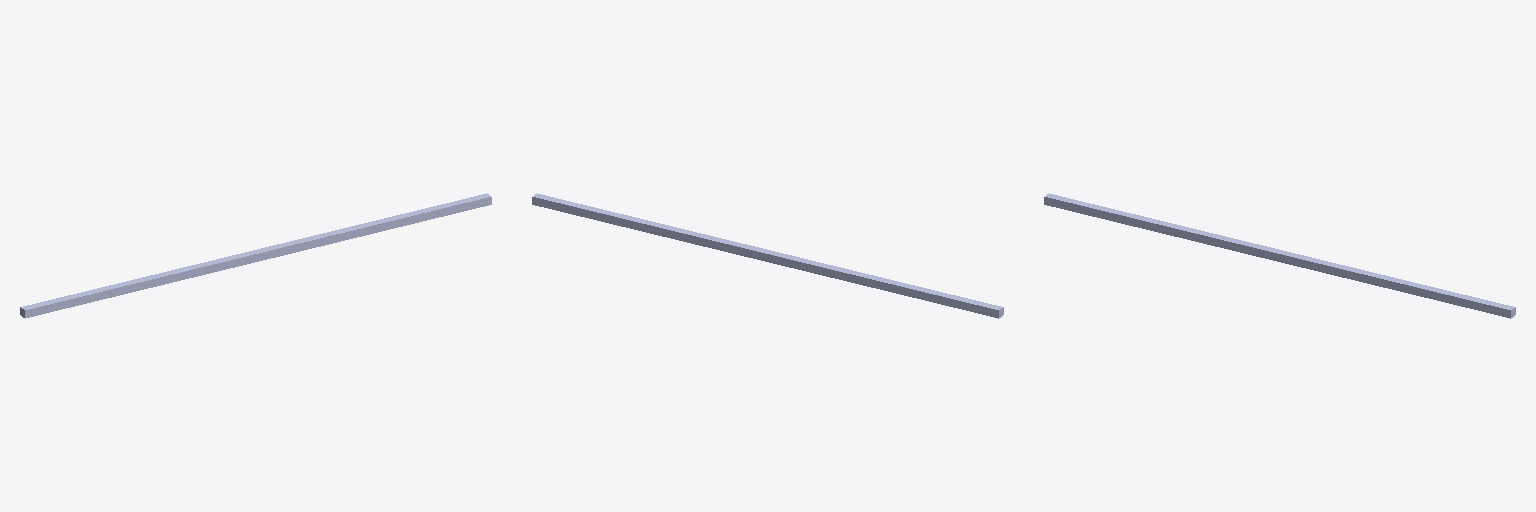
The robot description file, URDF, robot "road1":
<?xml version="1.0" encoding="utf-8"?>
<!-- This URDF was automatically created by SolidWorks to URDF Exporter! Originally created by Stephen Brawner ([email redacted]) 
     Commit Version: 1.6.0-4-g7f85cfe  Build Version: 1.6.7995.38578
     For more information, please see http://wiki.ros.org/sw_urdf_exporter -->
<robot
  name="road1">
  <link
    name="base_link">
    <inertial>
      <origin
        xyz="-2.55487724437157E-16 0.01 -0.21"
        rpy="0 0 0" />
      <mass
        value="0.48" />
      <inertia
        ixx="3.2E-05"
        ixy="6.77626357803441E-20"
        ixz="-1.41810030153862E-18"
        iyy="0.057616"
        iyz="-1.2886420446348E-21"
        izz="0.057616" />
    </inertial>
    <visual>
      <origin
        xyz="0 0 0"
        rpy="0 0 0" />
      <geometry>
        <mesh
          filename="package://road1/meshes/base_link.STL" />
      </geometry>
      <material
        name="">
        <color
          rgba="0.792156862745098 0.819607843137255 0.933333333333333 1" />
      </material>
    </visual>
    <collision>
      <origin
        xyz="0 0 0"
        rpy="0 0 0" />
      <geometry>
        <mesh
          filename="package://road1/meshes/base_link.STL" />
      </geometry>
    </collision>
  </link>
</robot>

--- Facts derived from the render (not from the file) ---
The picture shows the robot from 3 angles, left to right: view 1: azimuth 30°, elevation 25°; view 2: azimuth 150°, elevation 25°; view 3: azimuth 330°, elevation 25°; orthographic projection.
Model road1 with 1 links and 0 joints (none), rooted at base_link, posed every joint at zero.
Visible links, largest first — view 1: base_link; view 2: base_link; view 3: base_link.
Boxes of the visible links, bbox=[...] form: base_link: bbox=[20, 193, 491, 318]; base_link: bbox=[532, 193, 1003, 318]; base_link: bbox=[1044, 193, 1515, 318].
Size in the robot's own frame: 1.2 by 0.02 by 0.02 metres.
Meshes: 1 distinct files referenced, 1 mesh visuals loaded (1 binary STL).
